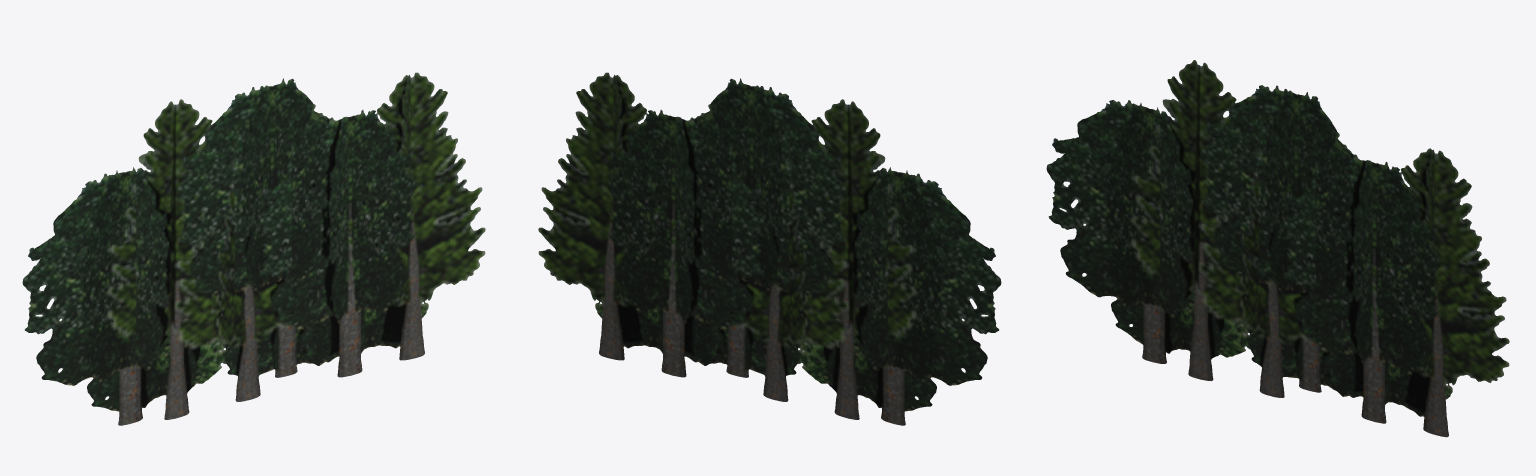
Rendered from BGTrees.fbx.
3 views of the same model, side by side, from view 1: azimuth 30°, elevation 25°; view 2: azimuth 150°, elevation 25°; view 3: azimuth 330°, elevation 25° (orthographic).
Visible parts, largest first — view 1: Plane.010; view 2: Plane.010; view 3: Plane.010.
Part boxes in pixels (box(x1,y1,x2,y2)): Plane.010: box(22, 72, 485, 425); Plane.010: box(538, 72, 1001, 425); Plane.010: box(1046, 60, 1509, 437).
Size of the model in its own units: 460 by 300 by 4.01e-05.
